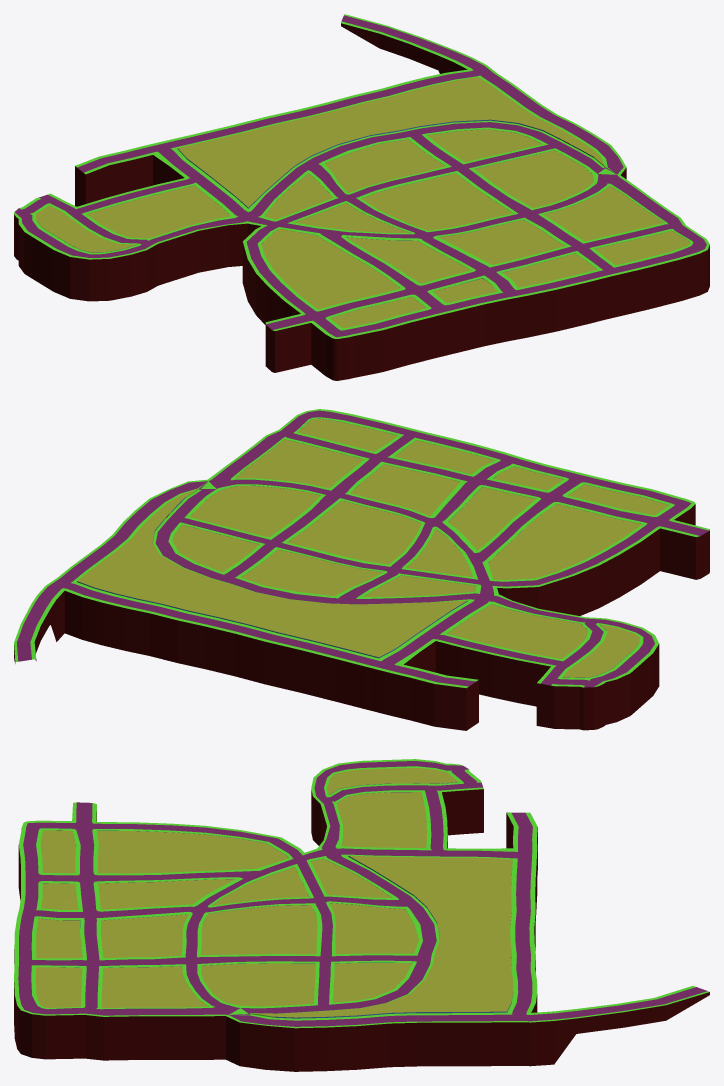
The model's file is hell_streets.FBX.
3 views of the same model, one above another, from view 1: azimuth 30°, elevation 25°; view 2: azimuth 150°, elevation 25°; view 3: azimuth 270°, elevation 25° (orthographic). The views are drawn at different scales.
Visible parts, largest first — view 1: streets; view 2: streets; view 3: streets.
Part boxes in pixels (x1,y1,x2,y2): streets: (14, 14, 709, 380); streets: (14, 409, 709, 730); streets: (14, 759, 709, 1071).
Bounding box in the file's own units: 281 × 22.16 × 307.
